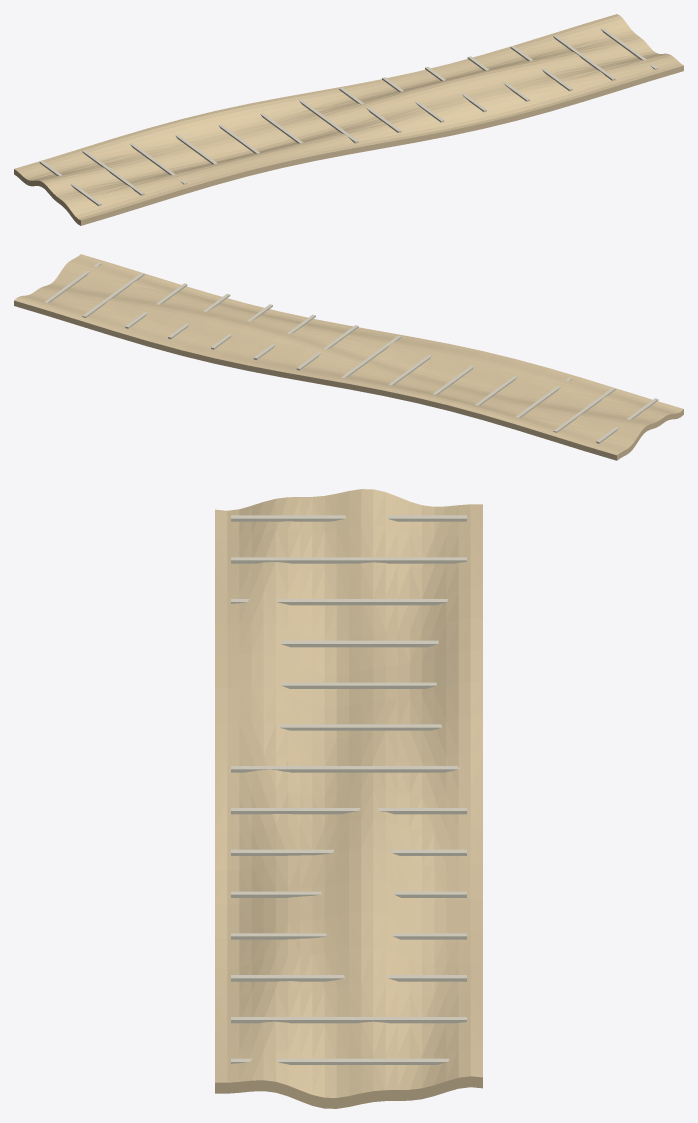
Rendered from asset.fbx.
3 renders of one model, top to bottom at view 1: azimuth 30°, elevation 25°; view 2: azimuth 150°, elevation 25°; view 3: azimuth 270°, elevation 25°, orthographic. The views are drawn at different scales.
Parts seen in each view (by area): view 1: radcare_fixation_tape_conforming_adhesive_strip, radcare_fixation_tape; view 2: radcare_fixation_tape_conforming_adhesive_strip, radcare_fixation_tape; view 3: radcare_fixation_tape_conforming_adhesive_strip, radcare_fixation_tape.
Part boxes in pixels (x1,y1,x2,y2): radcare_fixation_tape_conforming_adhesive_strip: (14,14,683,225); radcare_fixation_tape: (39,28,658,206); radcare_fixation_tape_conforming_adhesive_strip: (14,254,683,460); radcare_fixation_tape: (44,262,658,443); radcare_fixation_tape_conforming_adhesive_strip: (215,489,482,1108); radcare_fixation_tape: (231,515,466,1064).
Bounding box in the file's own units: 0.13 × 0.004 × 0.025.
